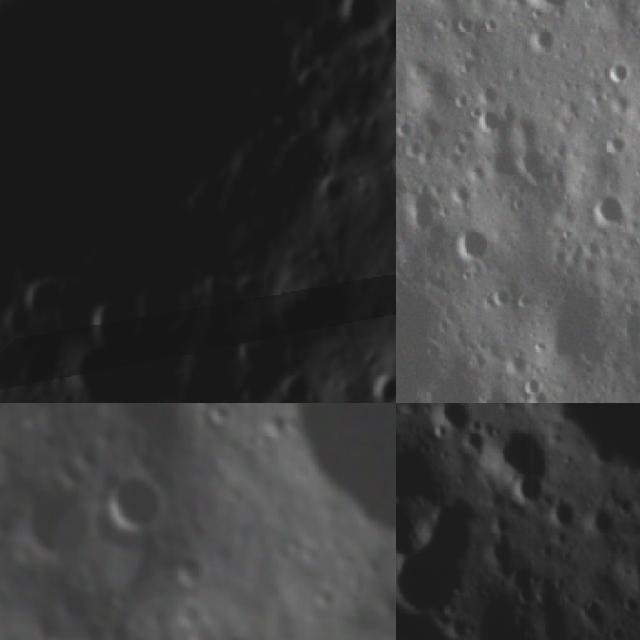crater: (0, 0, 312, 286), (15, 480, 100, 562), (103, 466, 179, 540), (74, 286, 138, 365), (3, 263, 76, 328), (478, 420, 546, 482), (317, 0, 390, 46), (451, 228, 503, 274), (304, 162, 349, 212), (421, 403, 475, 442), (586, 498, 632, 541), (173, 550, 212, 588), (540, 492, 580, 529), (355, 368, 396, 403), (176, 596, 210, 629), (68, 442, 104, 473), (201, 403, 238, 429), (591, 195, 619, 227), (317, 580, 338, 613), (218, 629, 256, 640), (193, 625, 219, 640), (396, 421, 405, 453)
